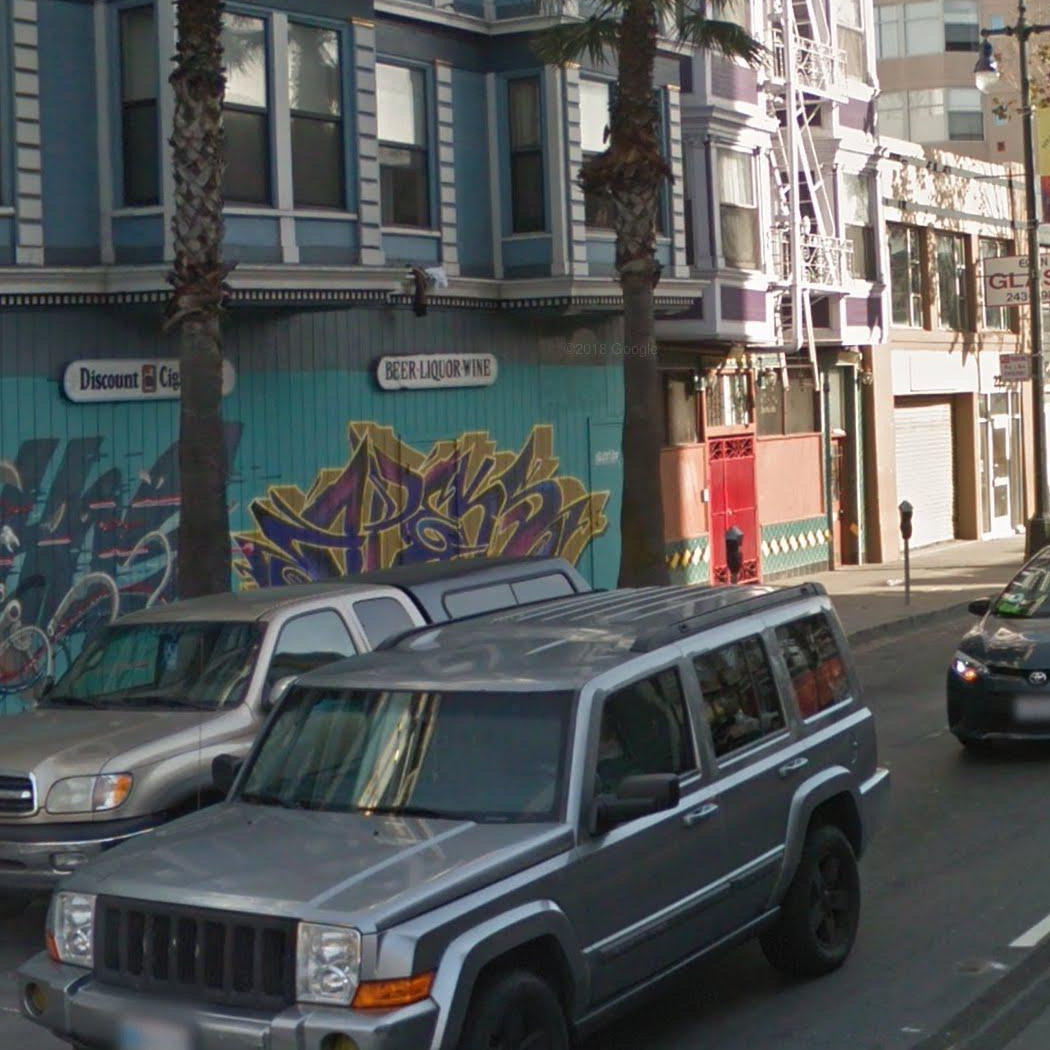No Parking: (999, 352, 1034, 383)
